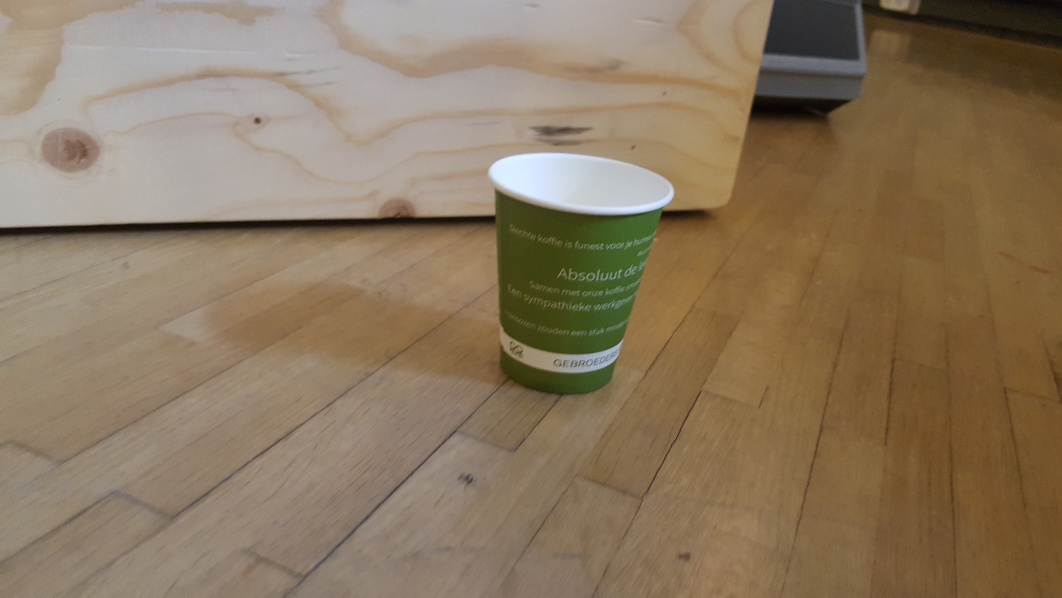cup: (483, 151, 677, 398)
tray: (752, 1, 868, 114)
